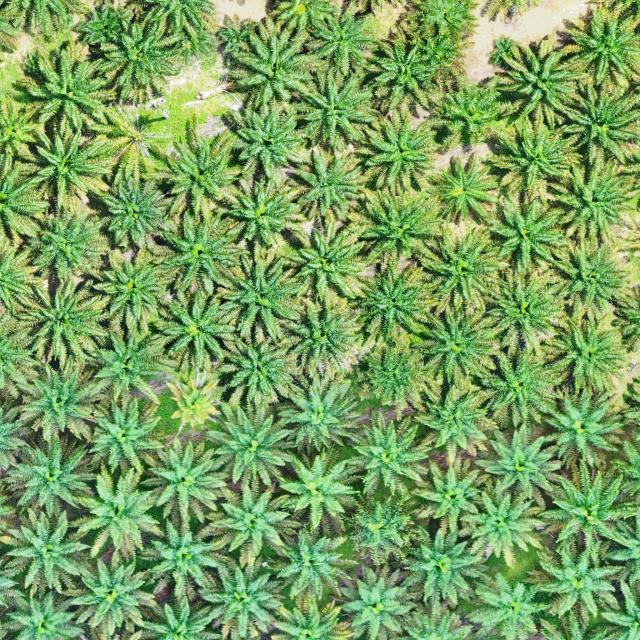Tree: (146, 117, 250, 224), (67, 392, 175, 490), (536, 448, 638, 551), (68, 462, 169, 562), (523, 536, 627, 630), (7, 124, 116, 209), (2, 276, 104, 366), (3, 354, 106, 443), (57, 552, 161, 639), (12, 48, 117, 134), (211, 250, 307, 344), (488, 34, 580, 132), (412, 224, 510, 314), (402, 517, 493, 611), (153, 209, 248, 299), (139, 437, 230, 530), (278, 217, 373, 306), (0, 503, 88, 599), (346, 184, 445, 269), (222, 17, 312, 110), (467, 344, 565, 429), (87, 246, 178, 337), (144, 514, 236, 604), (204, 401, 293, 494), (482, 119, 581, 202), (537, 236, 635, 319), (274, 368, 368, 454), (214, 325, 305, 413), (350, 108, 442, 195), (270, 445, 358, 534), (455, 483, 548, 567), (478, 265, 567, 352), (195, 553, 284, 640), (554, 79, 640, 169), (410, 301, 500, 387), (347, 409, 432, 500), (539, 382, 624, 471), (468, 426, 562, 506), (268, 524, 362, 604), (539, 312, 628, 396), (403, 375, 492, 459), (546, 163, 636, 246), (277, 294, 368, 376), (2, 433, 94, 514), (350, 264, 436, 350), (422, 69, 507, 156), (203, 479, 294, 560), (84, 322, 169, 407), (98, 18, 186, 100), (290, 68, 376, 149), (221, 102, 305, 183), (17, 208, 108, 282), (337, 560, 421, 640), (485, 195, 574, 270), (353, 338, 436, 418), (463, 569, 556, 640), (285, 146, 369, 224), (560, 5, 640, 86), (91, 103, 174, 181), (88, 171, 168, 251), (343, 494, 423, 572), (155, 288, 233, 368), (363, 34, 442, 112), (218, 177, 303, 249), (153, 362, 235, 436), (412, 448, 483, 527), (427, 156, 498, 224), (0, 585, 86, 640), (306, 7, 376, 73)
